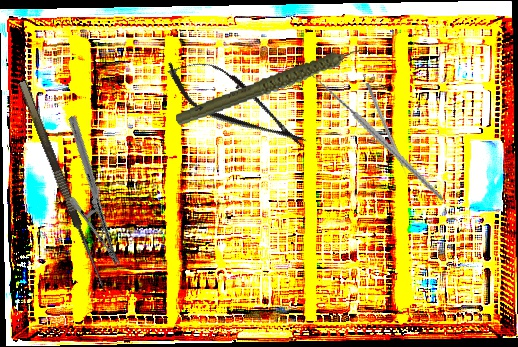Handpiece: (170, 44, 379, 129)
Hook Surgical: (298, 44, 446, 230), (18, 75, 119, 295), (364, 81, 412, 184)
Micro Scissor: (155, 42, 318, 166)
Needle Holder: (16, 113, 173, 269)
